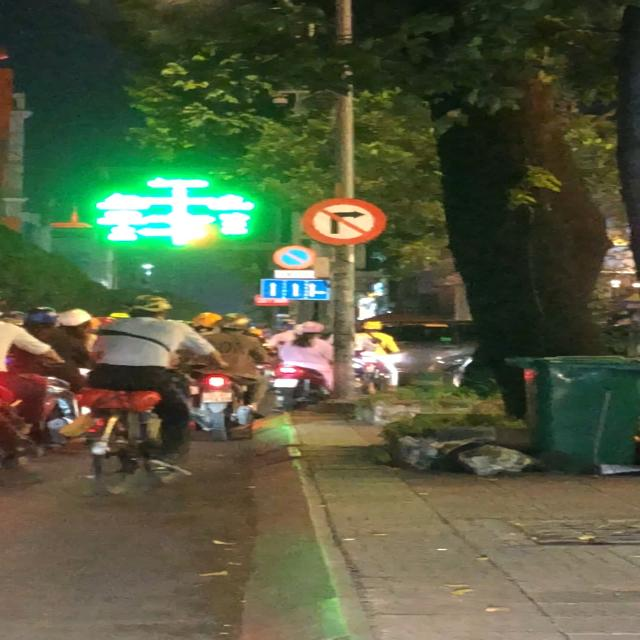Bien bao cam re phai: (300, 196, 390, 248)
